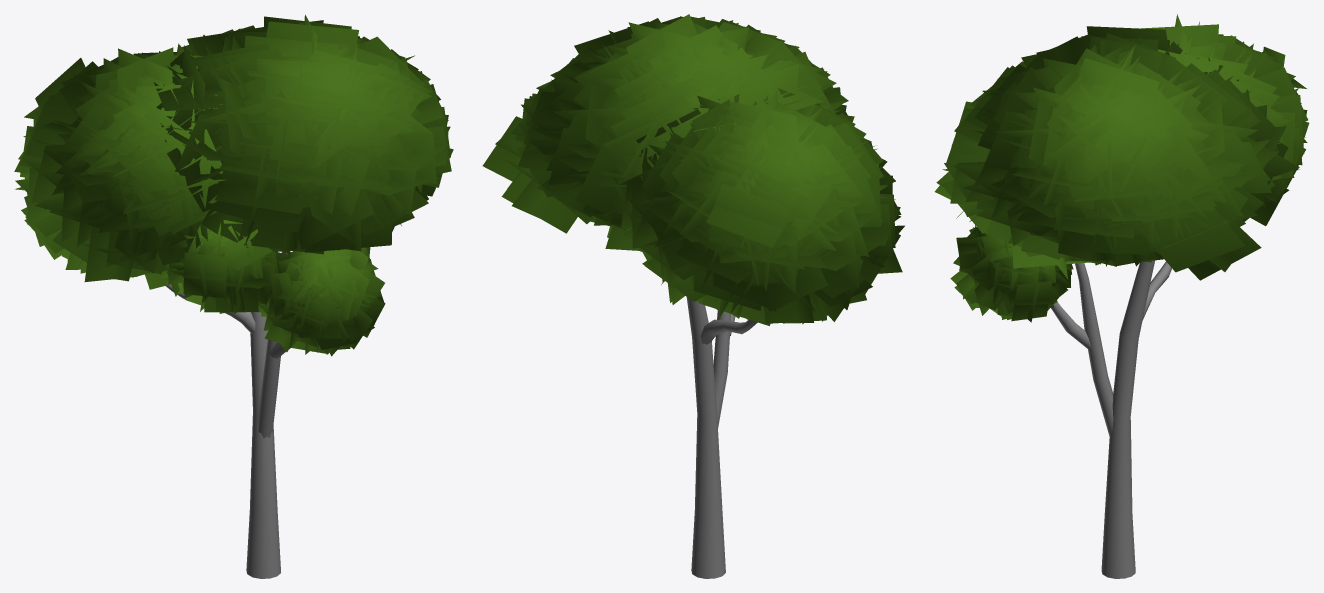
Rendered from SM_tree_cherry_02.fbx.
3 views of the same model, side by side, from view 1: azimuth 30°, elevation 25°; view 2: azimuth 150°, elevation 25°; view 3: azimuth 270°, elevation 25° (orthographic).
Visible parts, largest first — view 1: Line192; view 2: Line192; view 3: Line192.
Part boxes in pixels (bbox=[...]): Line192: bbox=[14, 14, 453, 578]; Line192: bbox=[482, 14, 904, 578]; Line192: bbox=[934, 14, 1309, 578].
Bounding box in the file's own units: 168 × 226 × 144.
